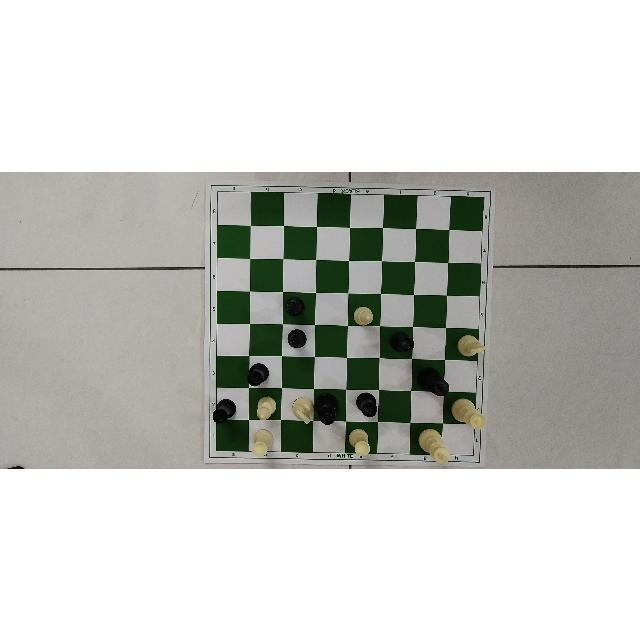black-bishop: (287, 328, 307, 348), (285, 296, 305, 316)
black-king: (418, 365, 450, 396)
black-queen: (314, 392, 339, 424)
black-rook: (212, 397, 237, 423), (355, 391, 378, 417), (248, 362, 270, 385), (389, 331, 414, 351)
white-bishop: (256, 394, 278, 420), (353, 305, 373, 325)
white-king: (418, 427, 452, 463)
white-knight: (456, 334, 487, 356), (292, 396, 314, 422)
white-queen: (451, 396, 485, 429)
white-rook: (348, 426, 372, 454), (252, 427, 274, 455)
